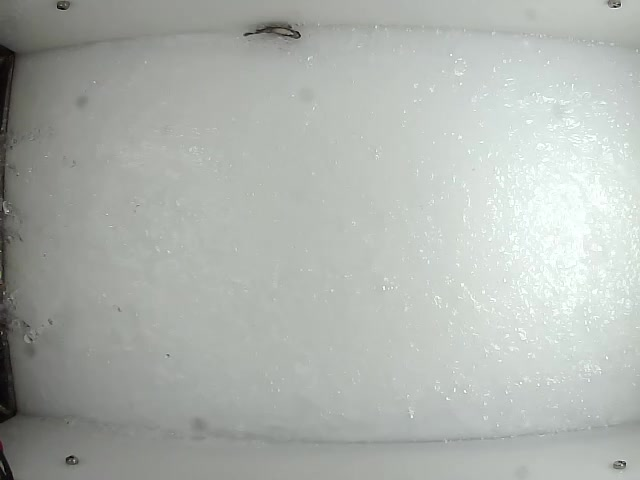fish: (239, 23, 302, 39)
